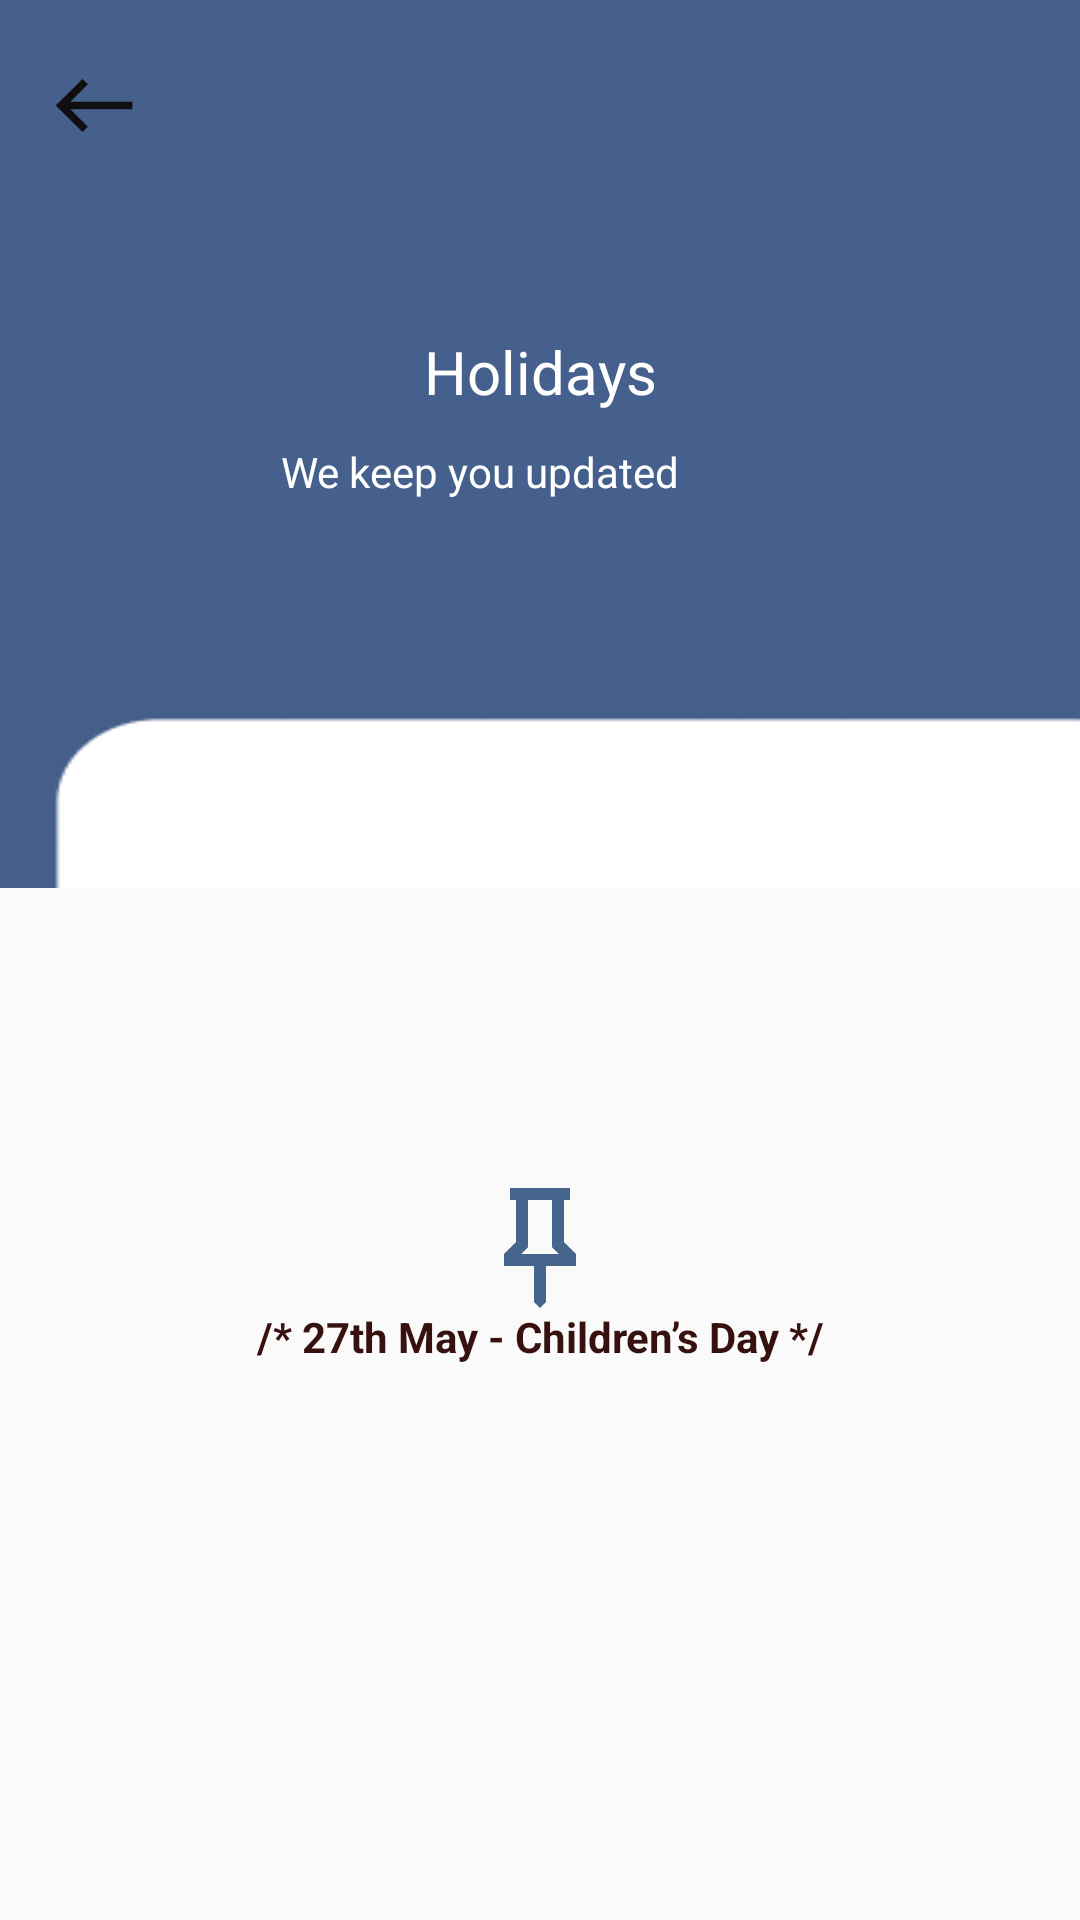

Screen size 1080x1920. Icon name, then its center in pixels as (x=x, y=y):
west: (x=94, y=105)
